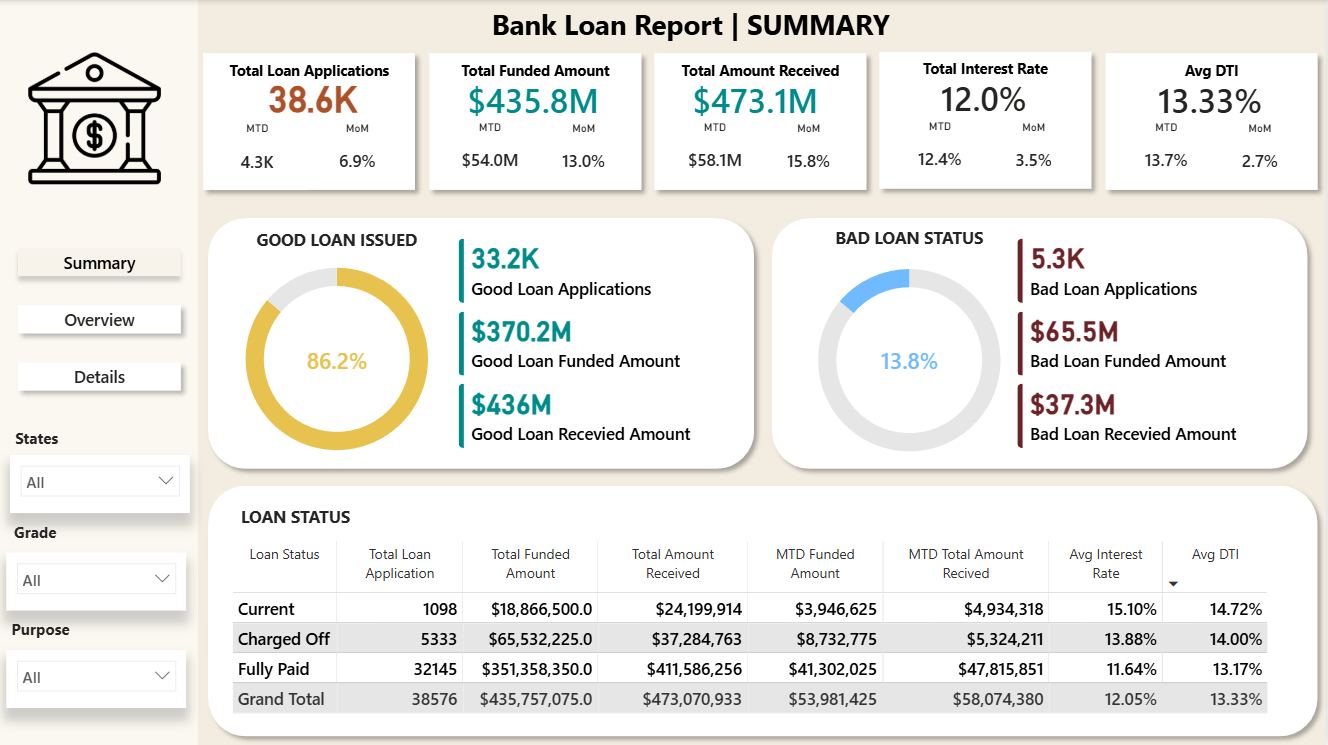

Layout of this report page (visuals, bound fields, positions):
{"tool":"powerbi","page":{"name":"Summary","canvas":[1280,720],"ordinal":0},"visuals":[{"type":"shape","box":[0,0,1088.8,55],"z":0},{"type":"slicer","fields":{"Values":["bank_loan_data.address_state"]},"box":[10,438.7,173.8,56.2],"z":0,"group":"g6"},{"type":"shape","box":[840,41.2,222.5,150],"z":1000,"group":"g4"},{"type":"shape","box":[187.5,42.5,222.5,150],"z":1000,"group":"g1"},{"type":"shape","box":[405,42.5,222.5,150],"z":1000,"group":"g2"},{"type":"shape","box":[622.5,42.5,222.5,150],"z":1000,"group":"g3"},{"type":"shape","box":[1057.5,42.5,222.5,150],"z":1000,"group":"g5"},{"type":"shape","box":[191.2,201.2,545,260],"z":1000},{"type":"textbox","box":[10,407.5,167.5,35],"z":1000,"group":"g6"},{"type":"shape","box":[0,0,191.2,720],"z":2000},{"type":"textbox","box":[463.3,0,413.8,63.9],"z":3000},{"type":"group","id":"g1","title":"Group 1","box":[187.5,42.5,222.5,150],"z":4000},{"type":"cardVisual","fields":{"Data":["bank_loan_data.Avg Interest Rate"]},"box":[857.2,58.1,186.2,71.2],"z":4000,"group":"g4"},{"type":"cardVisual","fields":{"Data":["bank_loan_data.Total Funded Amount"]},"box":[422.2,59.4,186.2,71.2],"z":4000,"group":"g2"},{"type":"cardVisual","fields":{"Data":["bank_loan_data.Totl Amount Recived"]},"box":[639.7,59.4,186.2,71.2],"z":4000,"group":"g3"},{"type":"cardVisual","fields":{"Data":["bank_loan_data.Avg DTI"]},"box":[1074.7,59.4,186.2,71.2],"z":4000,"group":"g5"},{"type":"cardVisual","fields":{"Data":["bank_loan_data.Total Loan Application"]},"box":[225,60,155,68.8],"z":4000,"group":"g1"},{"type":"group","id":"g2","title":"Group 1","box":[405,42.5,222.5,150],"z":5000},{"type":"textbox","box":[853.3,51.7,196.2,34.8],"z":5000,"group":"g4"},{"type":"textbox","box":[200.8,53,196.2,34.8],"z":5000,"group":"g1"},{"type":"textbox","box":[418.3,53,196.2,34.8],"z":5000,"group":"g2"},{"type":"textbox","box":[635.8,53,196.2,34.8],"z":5000,"group":"g3"},{"type":"textbox","box":[1070.8,53,196.2,34.8],"z":5000,"group":"g5"},{"type":"group","id":"g3","title":"Group 1","box":[622.5,42.5,222.5,150],"z":6000},{"type":"cardVisual","title":"MTD","fields":{"Data":["bank_loan_data.MTD AVG Interest Rate"]},"box":[851.2,114.3,113.8,66.2],"z":6000,"group":"g4"},{"type":"cardVisual","title":"MTD","fields":{"Data":["bank_loan_data.MTD Funded Amount"]},"box":[416.2,115.6,113.8,66.2],"z":6000,"group":"g2"},{"type":"cardVisual","title":"MTD","fields":{"Data":["bank_loan_data.MTD Total Amount Recived"]},"box":[633.7,115.6,113.8,66.2],"z":6000,"group":"g3"},{"type":"cardVisual","title":"MTD","fields":{"Data":["bank_loan_data.MTD Avg DTI"]},"box":[1068.7,115.6,113.8,66.2],"z":6000,"group":"g5"},{"type":"cardVisual","title":"MTD","fields":{"Data":["bank_loan_data.MTD Loan Application"]},"box":[200,117.5,98.8,66.2],"z":6000,"group":"g1"},{"type":"group","id":"g4","title":"Group 1","box":[840,41.2,222.5,150],"z":7000},{"type":"cardVisual","title":"MoM","fields":{"Data":["bank_loan_data.MoM AVG Interest Rate"]},"box":[943.8,116.2,108.8,63.8],"z":7000,"group":"g4"},{"type":"cardVisual","title":"MoM","fields":{"Data":["bank_loan_data.MoM Loan Application"]},"box":[291.3,117.5,108.8,63.8],"z":7000,"group":"g1"},{"type":"cardVisual","title":"MoM","fields":{"Data":["bank_loan_data.MoM Funded Amount"]},"box":[508.8,117.5,108.8,63.8],"z":7000,"group":"g2"},{"type":"cardVisual","title":"MoM","fields":{"Data":["bank_loan_data.MoM Total Amount Recived"]},"box":[726.3,117.5,108.8,63.8],"z":7000,"group":"g3"},{"type":"cardVisual","title":"MoM","fields":{"Data":["bank_loan_data.MoM Avg DTI"]},"box":[1161.3,117.5,108.8,63.8],"z":7000,"group":"g5"},{"type":"group","id":"g5","title":"Group 1","box":[1057.5,42.5,222.5,150],"z":8000},{"type":"shape","box":[736.2,201.2,535,260],"z":9000},{"type":"donutChart","fields":{"Category":["bank_loan_data.Good VS Bad Loan"],"Y":["bank_loan_data.Total Loan Application"]},"box":[200,231.2,250,230],"z":10000},{"type":"cardVisual","fields":{"Data":["bank_loan_data.Good Loan %"]},"box":[265,312.5,120,68.8],"z":11000},{"type":"textbox","box":[241.2,215,167.5,35],"z":12000},{"type":"cardVisual","fields":{"Data":["bank_loan_data.Good Loan Applications","bank_loan_data.Good Loan Funded Amount","bank_loan_data.Good Loan Recevied Amount"]},"box":[426.2,213.8,273.8,237.5],"z":13000},{"type":"donutChart","fields":{"Category":["bank_loan_data.Good VS Bad Loan"],"Y":["bank_loan_data.Total Loan Application"]},"box":[752.5,232.5,250,230],"z":14000},{"type":"textbox","box":[801.2,213.8,163.8,31.2],"z":15000},{"type":"cardVisual","fields":{"Data":["bank_loan_data.Bad Loan %"]},"box":[817.5,312.5,120,68.8],"z":16000},{"type":"shape","box":[191.2,460,1088.8,260],"z":17000},{"type":"cardVisual","fields":{"Data":["bank_loan_data.Bad Loan Applications","bank_loan_data.Bad Loan Funded Amount","bank_loan_data.Bad Loan Recevied Amount"]},"box":[965,213.8,273.8,237.5],"z":18000},{"type":"tableEx","fields":{"Values":["bank_loan_data.loan_status","bank_loan_data.Total Loan Application","bank_loan_data.Total Funded Amount","bank_loan_data.Total Amount Received","bank_loan_data.MTD Funded Amount","bank_loan_data.MTD Total Amount Recived","bank_loan_data.Avg Interest Rate","bank_loan_data.Avg DTI"]},"box":[218.8,517.5,1036.2,180],"z":19000},{"type":"textbox","box":[201.2,482.5,167.5,35],"z":20000},{"type":"slicer","fields":{"Values":["bank_loan_data.grade"]},"box":[6.2,533.8,173.8,56.2],"z":21000},{"type":"textbox","box":[6.2,592.5,167.5,35],"z":22000},{"type":"textbox","box":[8.8,498.8,167.5,35],"z":23000},{"type":"slicer","fields":{"Values":["bank_loan_data.purpose"]},"box":[6.2,627.5,173.8,56.2],"z":24000},{"type":"group","id":"g6","title":"Group 2","box":[10,407.5,173.8,87.5],"z":25000},{"type":"pageNavigator","box":[8.8,230,175,155],"z":25001},{"type":"image","box":[15,51.2,153.8,127.5],"z":25002}]}

Visuals, with their boxes in screenshot pixels (x1, y1, x2, y2), scaled from the page's 1280x720 canvas onto the 1328x745 screenshot:
shape: l=0, t=0, r=1130, b=57
slicer - bank_loan_data.address_state: l=10, t=454, r=191, b=512
shape: l=872, t=43, r=1102, b=198
shape: l=195, t=44, r=425, b=199
shape: l=420, t=44, r=651, b=199
shape: l=646, t=44, r=877, b=199
shape: l=1097, t=44, r=1327, b=199
shape: l=198, t=208, r=764, b=477
textbox: l=10, t=422, r=184, b=458
shape: l=0, t=0, r=198, b=744
textbox: l=481, t=0, r=910, b=66
"Group 1" group: l=195, t=44, r=425, b=199
cardVisual - bank_loan_data.Avg Interest Rate: l=889, t=60, r=1083, b=134
cardVisual - bank_loan_data.Total Funded Amount: l=438, t=61, r=631, b=135
cardVisual - bank_loan_data.Totl Amount Recived: l=664, t=61, r=857, b=135
cardVisual - bank_loan_data.Avg DTI: l=1115, t=61, r=1308, b=135
cardVisual - bank_loan_data.Total Loan Application: l=233, t=62, r=394, b=133
"Group 1" group: l=420, t=44, r=651, b=199
textbox: l=885, t=53, r=1089, b=90
textbox: l=208, t=55, r=412, b=91
textbox: l=434, t=55, r=638, b=91
textbox: l=660, t=55, r=863, b=91
textbox: l=1111, t=55, r=1315, b=91
"Group 1" group: l=646, t=44, r=877, b=199
"MTD" cardVisual: l=883, t=118, r=1001, b=187
"MTD" cardVisual: l=432, t=120, r=550, b=188
"MTD" cardVisual: l=657, t=120, r=776, b=188
"MTD" cardVisual: l=1109, t=120, r=1227, b=188
"MTD" cardVisual: l=208, t=122, r=310, b=190
"Group 1" group: l=872, t=43, r=1102, b=198
"MoM" cardVisual: l=979, t=120, r=1092, b=186
"MoM" cardVisual: l=302, t=122, r=415, b=188
"MoM" cardVisual: l=528, t=122, r=641, b=188
"MoM" cardVisual: l=754, t=122, r=866, b=188
"MoM" cardVisual: l=1205, t=122, r=1318, b=188
"Group 1" group: l=1097, t=44, r=1327, b=199
shape: l=764, t=208, r=1319, b=477
donutChart - bank_loan_data.Good VS Bad Loan x bank_loan_data.Total Loan Application: l=208, t=239, r=467, b=477
cardVisual - bank_loan_data.Good Loan %: l=275, t=323, r=399, b=395
textbox: l=250, t=222, r=424, b=259
cardVisual - bank_loan_data.Good Loan Applications x bank_loan_data.Good Loan Funded Amount: l=442, t=221, r=726, b=467
donutChart - bank_loan_data.Good VS Bad Loan x bank_loan_data.Total Loan Application: l=781, t=241, r=1040, b=479
textbox: l=831, t=221, r=1001, b=254
cardVisual - bank_loan_data.Bad Loan %: l=848, t=323, r=973, b=395
shape: l=198, t=476, r=1327, b=744
cardVisual - bank_loan_data.Bad Loan Applications x bank_loan_data.Bad Loan Funded Amount: l=1001, t=221, r=1285, b=467
tableEx - bank_loan_data.loan_status x bank_loan_data.Total Loan Application: l=227, t=535, r=1302, b=722
textbox: l=209, t=499, r=383, b=535
slicer - bank_loan_data.grade: l=6, t=552, r=187, b=610
textbox: l=6, t=613, r=180, b=649
textbox: l=9, t=516, r=183, b=552
slicer - bank_loan_data.purpose: l=6, t=649, r=187, b=707
"Group 2" group: l=10, t=422, r=191, b=512
pageNavigator: l=9, t=238, r=191, b=398
image: l=16, t=53, r=175, b=185
